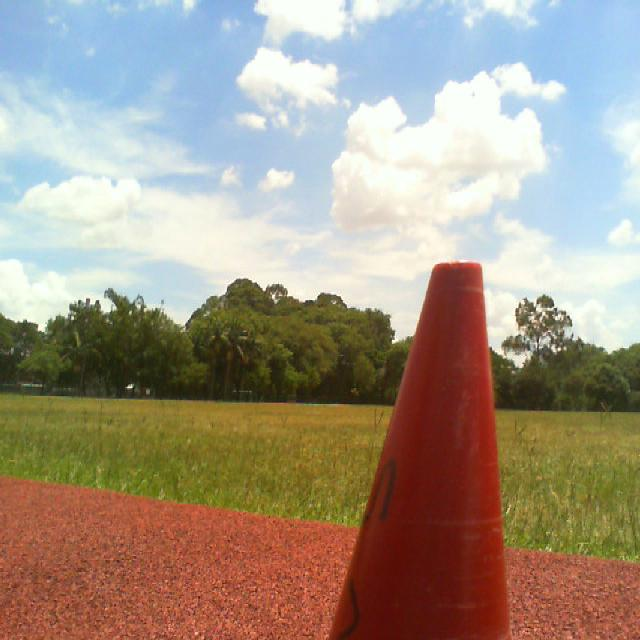cone: (328, 262, 513, 640)
